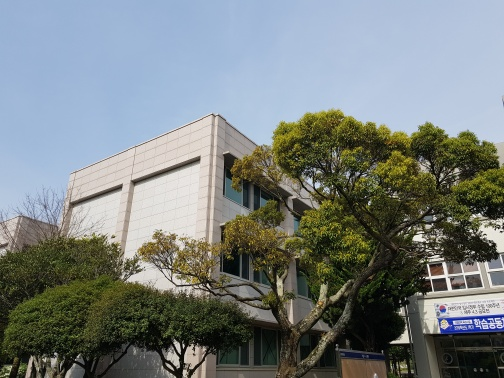College of Nursing: (39, 115, 499, 375)
